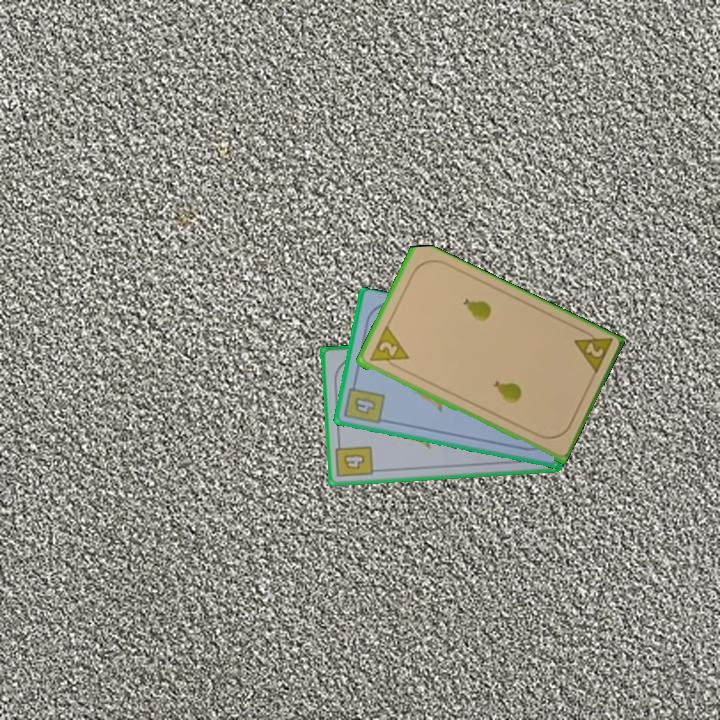2p: (569, 325, 615, 379), (365, 324, 411, 372)
4b: (341, 378, 388, 427), (332, 437, 376, 481)
